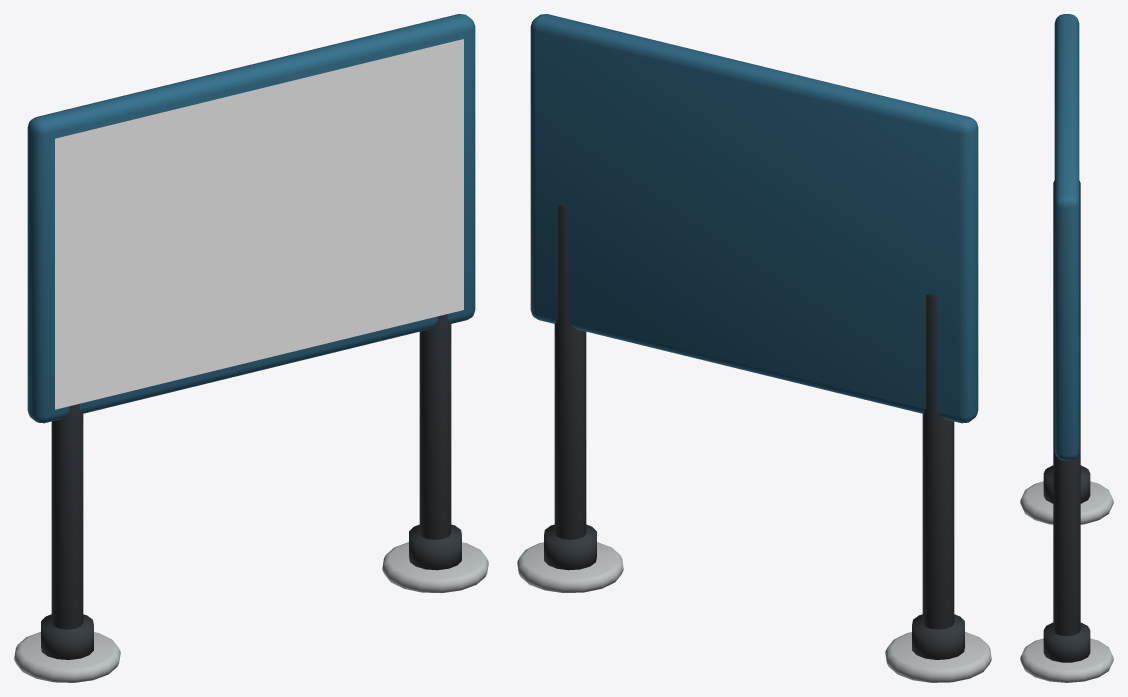
Rendered from billboard.glb.
3 views of the same model, side by side, from view 1: azimuth 30°, elevation 25°; view 2: azimuth 150°, elevation 25°; view 3: azimuth 270°, elevation 25° (orthographic). The views are drawn at different scales.
Visible parts, largest first — view 1: Billboard Dynamic Face, billboard frame, billboard post.001, billboard post, billboard paving pad, billboard paving pad.001, billboard post foot, billboard post foot.001; view 2: billboard frame, billboard post.001, billboard post, billboard paving pad, billboard paving pad.001, billboard post foot, billboard post foot.001; view 3: billboard frame, billboard post.001, billboard paving pad.001, billboard paving pad, billboard post foot.001, billboard post foot, billboard post.
Part boxes in pixels (x1,y1,x2,y2): Billboard Dynamic Face: (55,39,463,409); billboard frame: (27,14,475,423); billboard post.001: (419,314,451,539); billboard post: (51,404,83,629); billboard paving pad: (14,632,120,682); billboard paving pad.001: (382,542,488,592); billboard post foot: (41,614,93,659); billboard post foot.001: (409,524,461,570); billboard frame: (530,14,978,423); billboard post.001: (554,203,586,539); billboard post: (922,293,954,629); billboard paving pad: (885,632,991,682); billboard paving pad.001: (517,542,623,592); billboard post foot: (912,614,964,659); billboard post foot.001: (544,524,596,570); billboard frame: (1054,14,1079,460); billboard post.001: (1053,338,1080,636); billboard paving pad.001: (1020,638,1113,682); billboard paving pad: (1020,481,1113,524); billboard post foot.001: (1043,622,1090,662); billboard post foot: (1043,465,1090,503); billboard post: (1053,180,1080,339).
Size of the model in its own units: 3.38 by 3.86 by 0.68.
